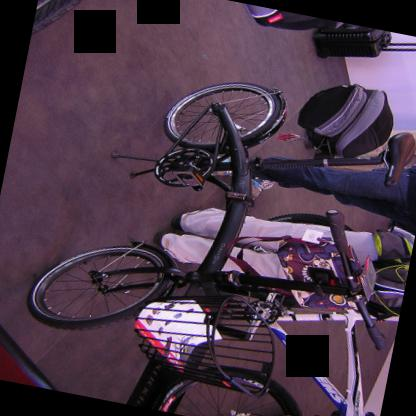backpack: (363, 228, 412, 324), (244, 3, 343, 29)
handbag: (220, 229, 357, 310)
suitcase: (309, 24, 416, 59)
